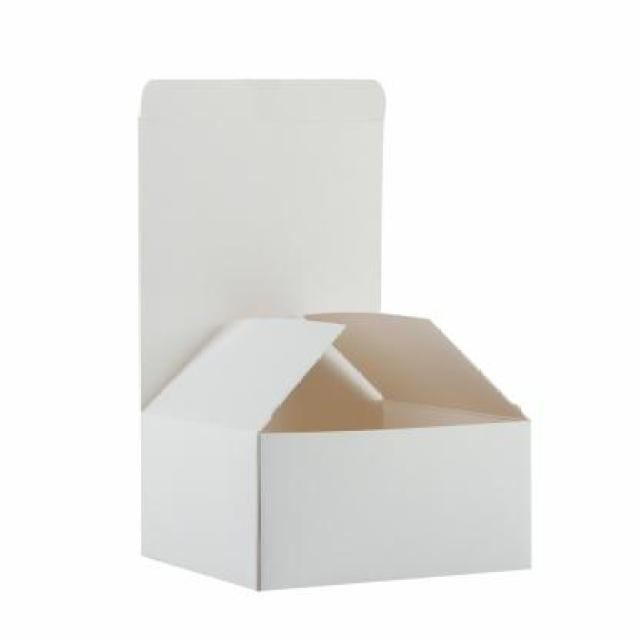box: (121, 70, 542, 596)
